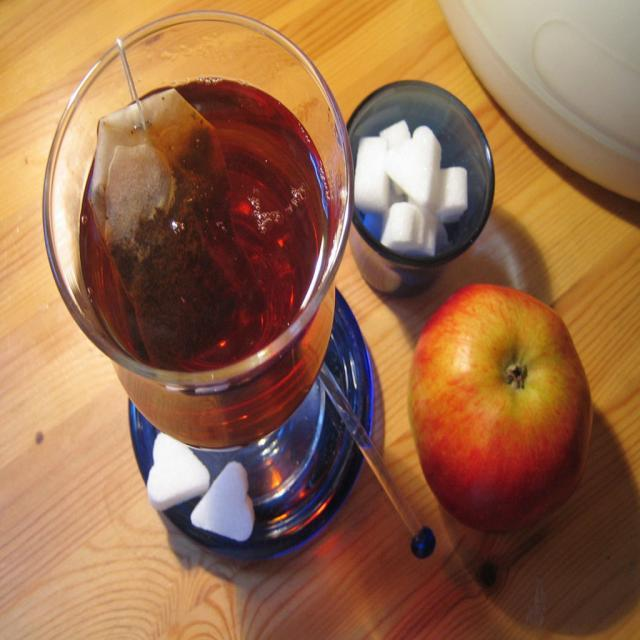Apple: (407, 281, 588, 534)
